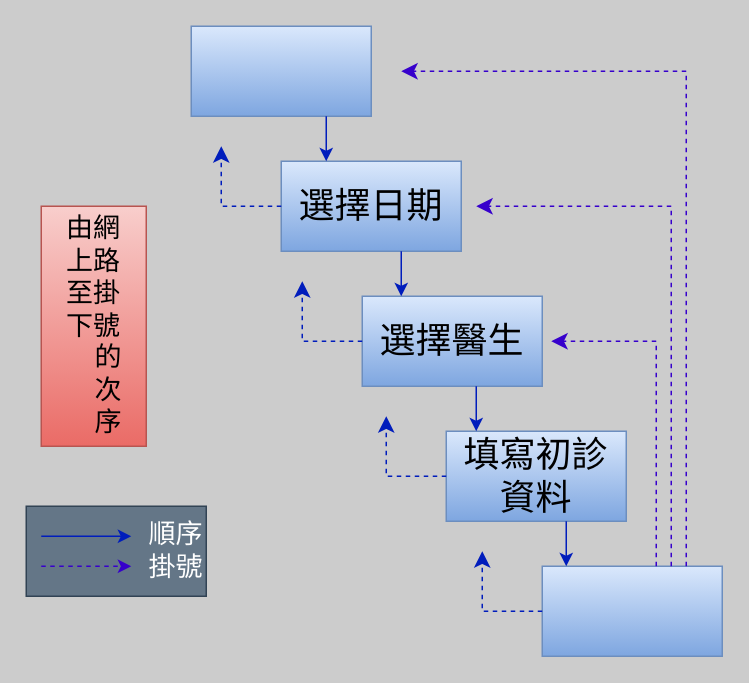
Image size: 749x683. Some labels were removed from this diagram. Each missing label, with the box of its shape:
完成掛號: (541, 565, 722, 656)
選擇科別: (190, 25, 371, 116)
